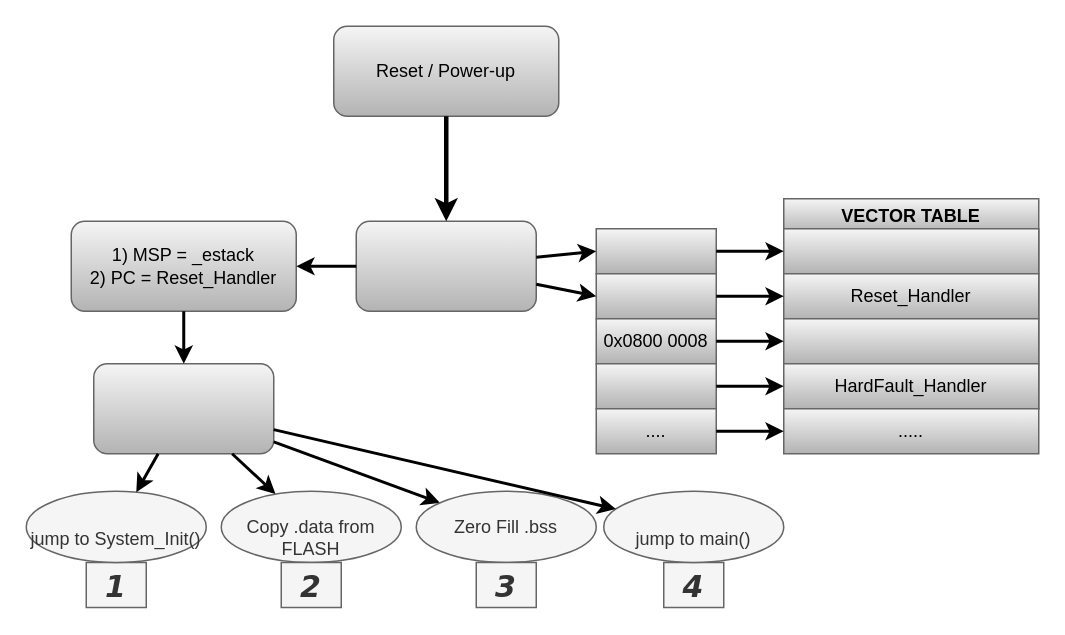
This 1065x635 diagram has some shape labels left out. Here are the shapes that lost their labels. From the top down, the centre of each, then its label:
At pixel 445 265: "CPU reads vector table".
At pixel 655 250: "0x0800 0000".
At pixel 910 250: "_estack".
At pixel 655 295: "0x0800 0004".
At pixel 910 340: "NMI_Handler".
At pixel 655 385: "0x0800 000C".
At pixel 183 408: "Reset_Handler()".
